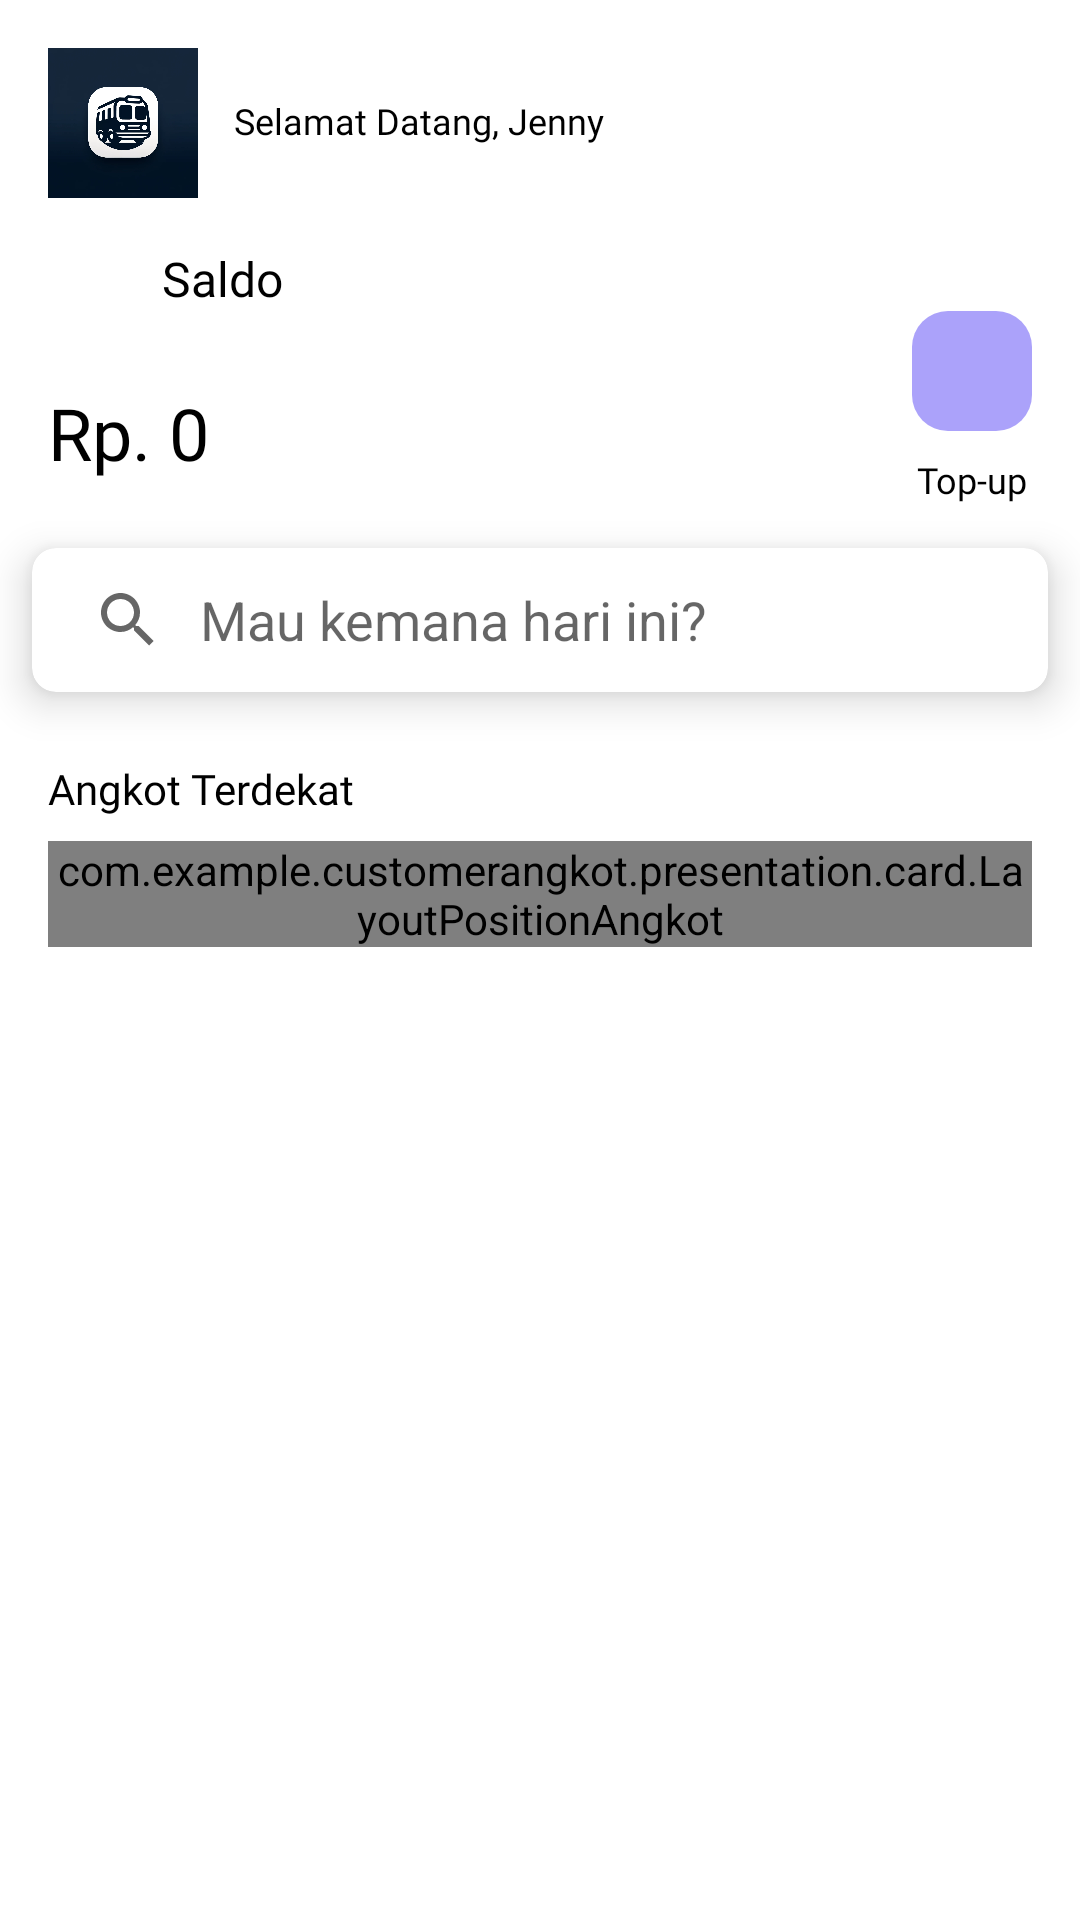

Point at icon controls on the screen. Image size 1080 × 1920, points as (x=x, y=y).
angkot: (x=123, y=123)
